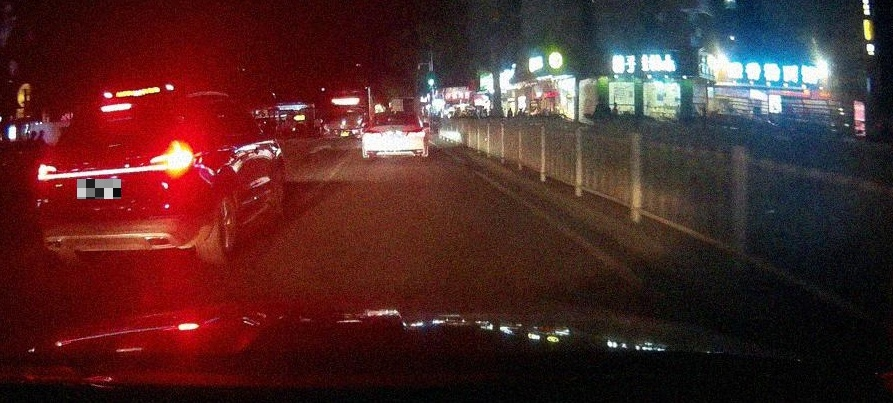L_light: (38, 164, 60, 180), (364, 130, 380, 136)
R_light: (150, 147, 194, 171), (406, 129, 424, 136)
T_light: (100, 102, 132, 112), (388, 113, 398, 117)
night-no: (362, 111, 428, 162)
night-right: (37, 98, 197, 265)
plate_1: (77, 179, 121, 199)
